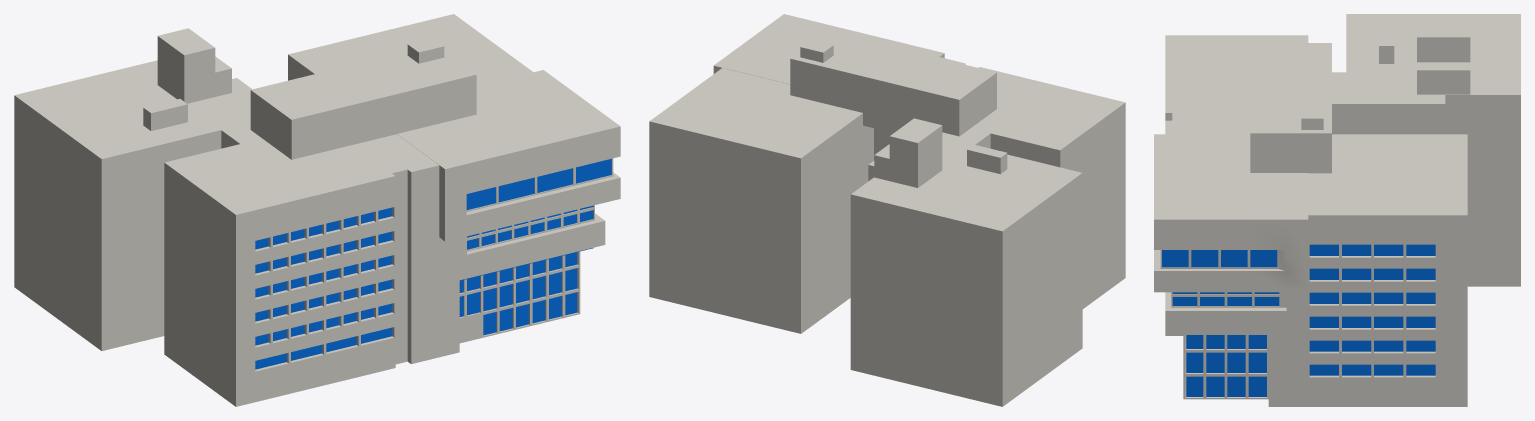
The model's file is 학술정보관.fbx.
3 renders of one model, left to right at view 1: azimuth 30°, elevation 25°; view 2: azimuth 150°, elevation 25°; view 3: azimuth 270°, elevation 25°, orthographic. The views are drawn at different scales.
Parts seen in each view (by area): view 1: 학술정보관_3, Cube_10, Cube_60, Cube_57, Cube_13, Cube_59, Cube_58, Cube_11, Cube_12; view 2: 학술정보관_3, Cube_10, Cube_13, Cube_11, Cube_12; view 3: 학술정보관_3, Cube_10, Cube_61, Cube_57, Cube_13, Cube_59, Cube_58, Cube_11, Cube_12.
Part boxes in pixels (x1=…): 학술정보관_3: x1=14, y1=14, x2=620, y2=406; Cube_10: x1=250, y1=51, x2=476, y2=159; Cube_60: x1=255, y1=207, x2=392, y2=369; Cube_57: x1=459, y1=252, x2=577, y2=335; Cube_13: x1=157, y1=28, x2=231, y2=103; Cube_59: x1=466, y1=159, x2=611, y2=210; Cube_58: x1=460, y1=205, x2=593, y2=280; Cube_11: x1=143, y1=99, x2=187, y2=130; Cube_12: x1=407, y1=38, x2=444, y2=63; 학술정보관_3: x1=649, y1=14, x2=1125, y2=406; Cube_10: x1=790, y1=31, x2=996, y2=136; Cube_13: x1=874, y1=118, x2=942, y2=187; Cube_11: x1=967, y1=144, x2=1007, y2=174; Cube_12: x1=800, y1=39, x2=833, y2=62; 학술정보관_3: x1=1154, y1=14, x2=1520, y2=406; Cube_10: x1=1250, y1=43, x2=1331, y2=173; Cube_61: x1=1309, y1=244, x2=1435, y2=375; Cube_57: x1=1186, y1=335, x2=1266, y2=396; Cube_13: x1=1417, y1=22, x2=1470, y2=94; Cube_59: x1=1162, y1=250, x2=1277, y2=267; Cube_58: x1=1172, y1=292, x2=1279, y2=305; Cube_11: x1=1379, y1=28, x2=1394, y2=63; Cube_12: x1=1301, y1=106, x2=1323, y2=129.
Bounding box in the file's own units: 1002 × 551 × 755.
